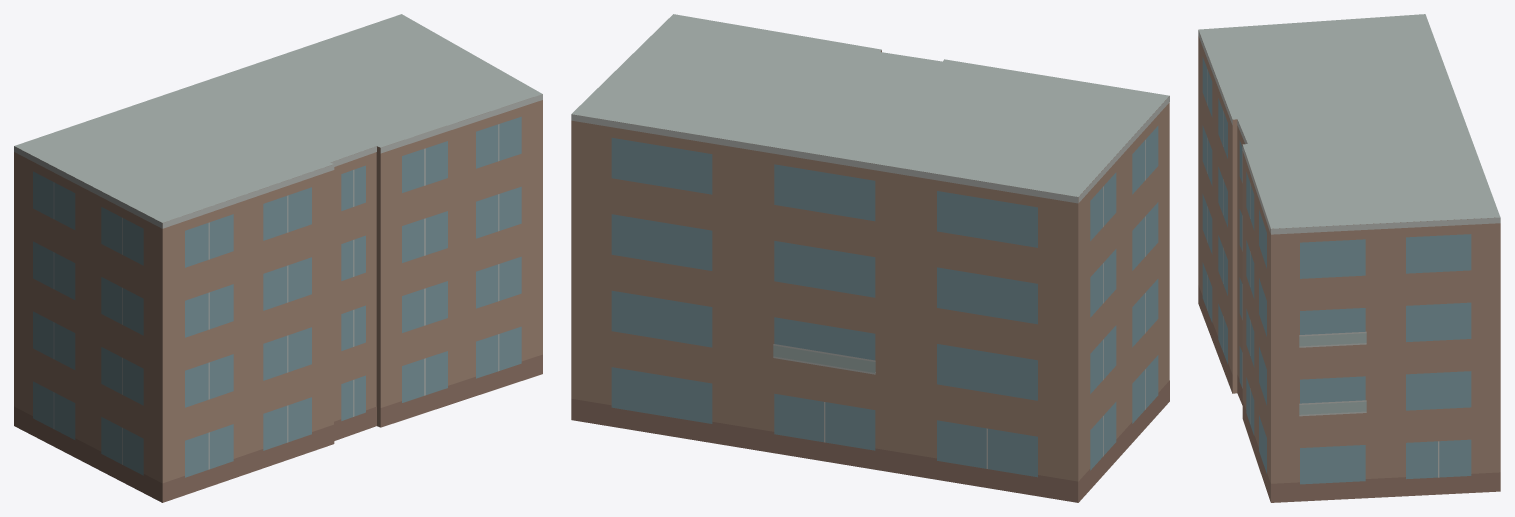
File: survey-upis-32881635.glb
3 views of the same model, side by side, from view 1: azimuth 30°, elevation 25°; view 2: azimuth 150°, elevation 25°; view 3: azimuth 270°, elevation 25° (orthographic). The views are drawn at different scales.
Visible parts, largest first — view 1: survey-upis-32881635.tmp; view 2: survey-upis-32881635.tmp; view 3: survey-upis-32881635.tmp.
Part boxes in pixels (left/top/right/bottom): survey-upis-32881635.tmp: left=14, top=14, right=542, bottom=502; survey-upis-32881635.tmp: left=571, top=14, right=1169, bottom=502; survey-upis-32881635.tmp: left=1198, top=14, right=1500, bottom=502.
Size of the model in its own units: 19.51 by 11.6 by 11.6.
